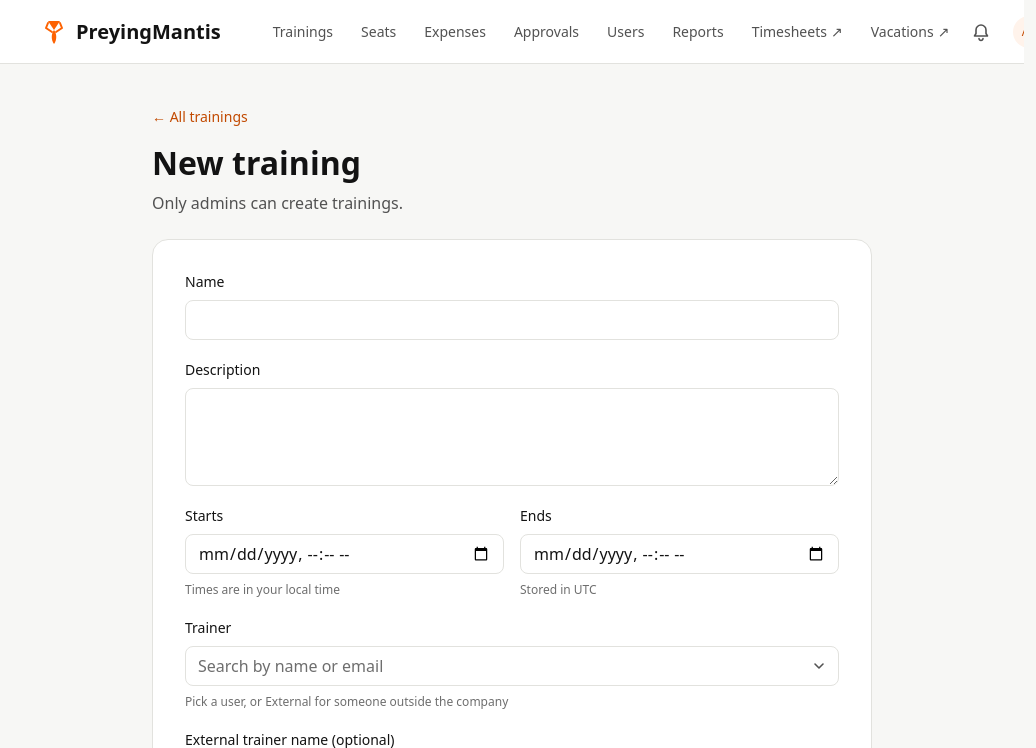
Test case: create-training form › shows the agreed rules next to each field and sends nothing
The width and height of the screenshot is (1036, 748).
Expected: the heading "New training" is shown, [152,141,361,184]
Type "2030-10-14T09:00" into the field labelled "Starts" at (344, 554), box [185,534,504,574]
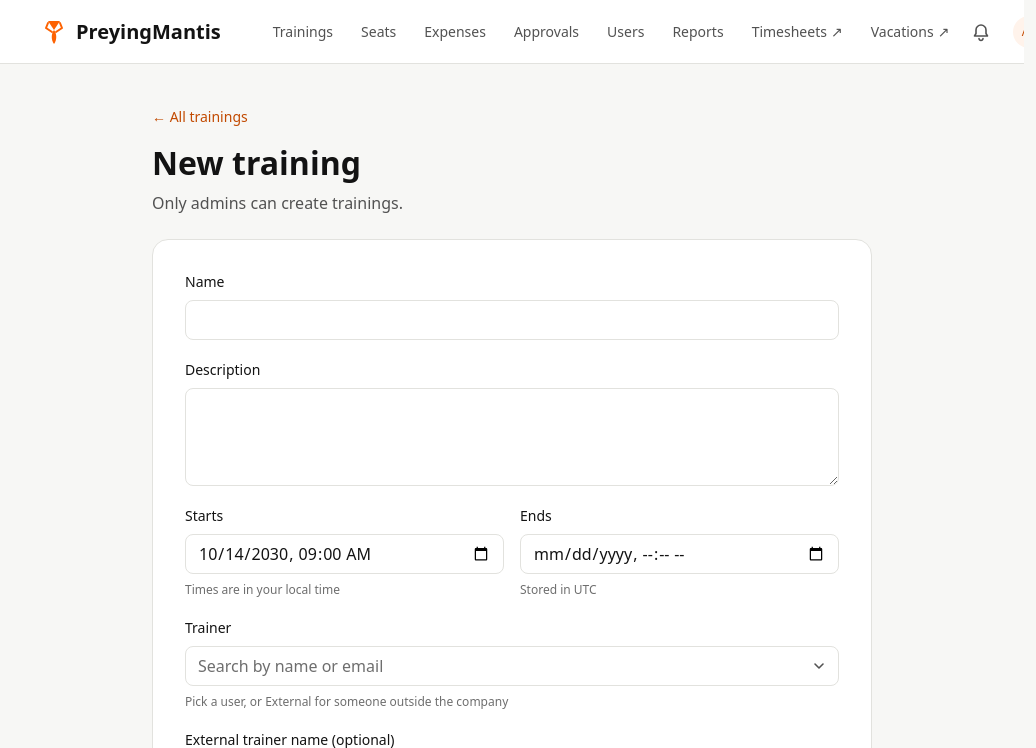
Type "2030-10-14T08:00" into the field labelled "Ends" at (680, 554), box [520,534,839,574]
(page scrolled)
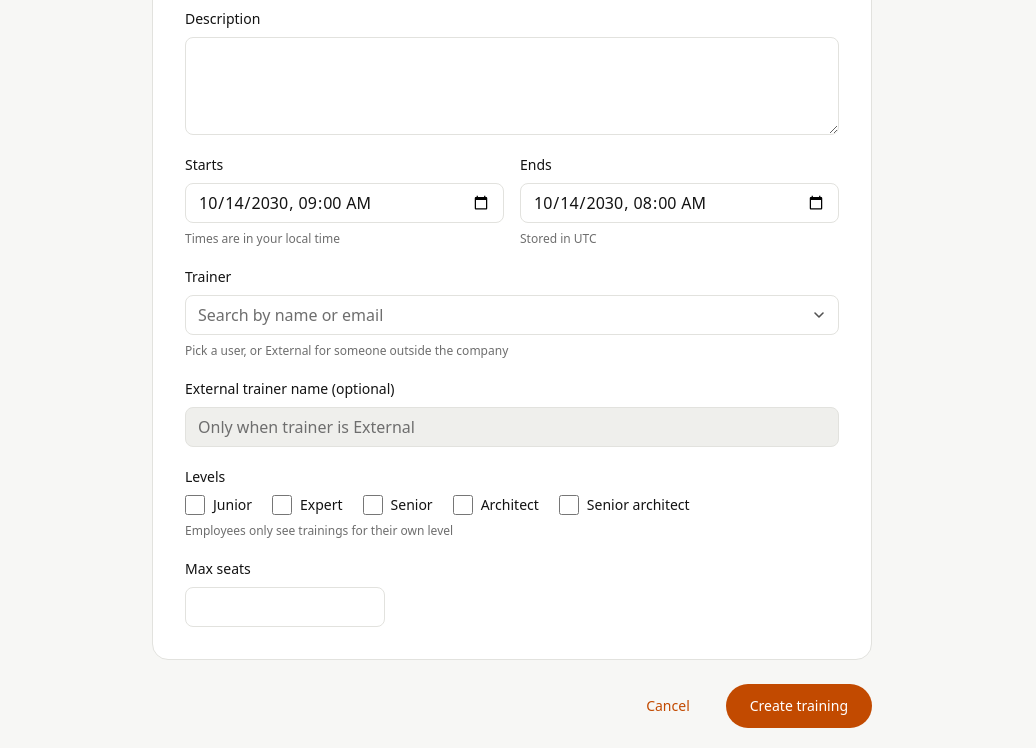
Click the button "Create training" at (799, 706), box [726,684,872,728]
(page scrolled)
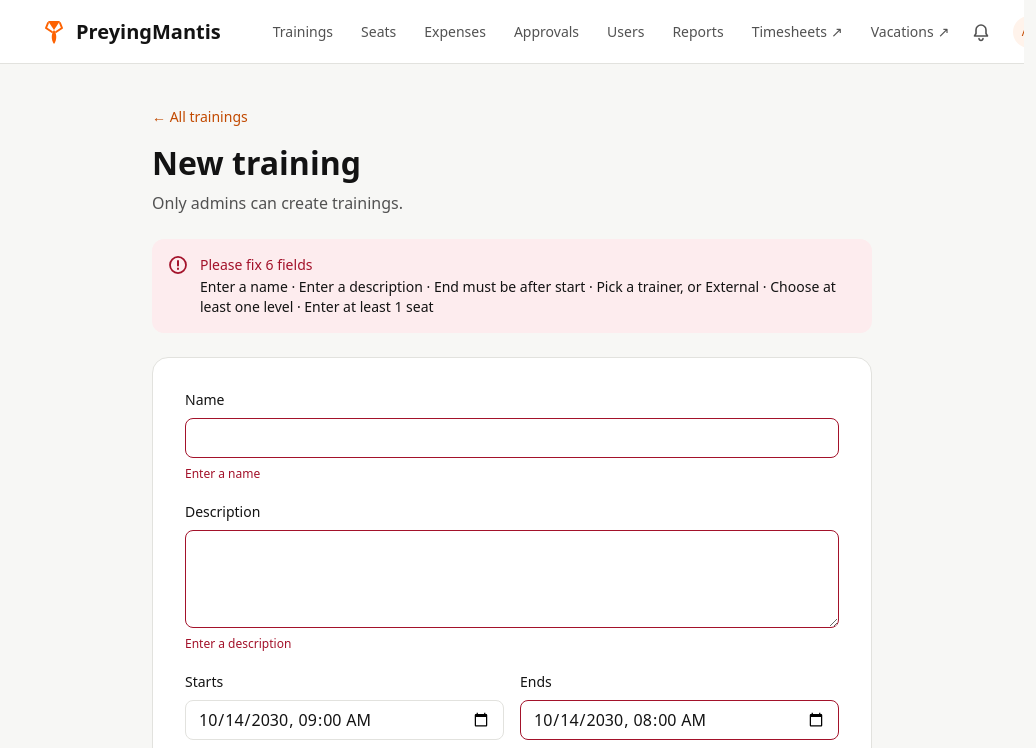
Result: the message shows "Please fix 6 fields" at [200,255,312,274]
